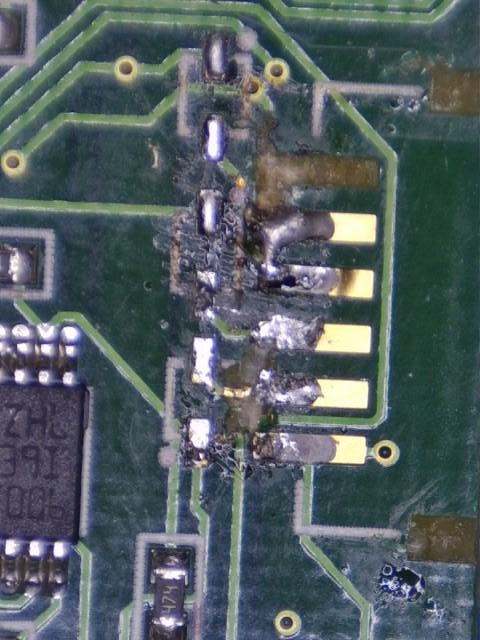pcb_defect: (253, 111, 378, 214), (258, 207, 376, 298), (407, 513, 480, 564), (429, 65, 480, 117), (223, 344, 275, 387), (222, 397, 261, 439)
